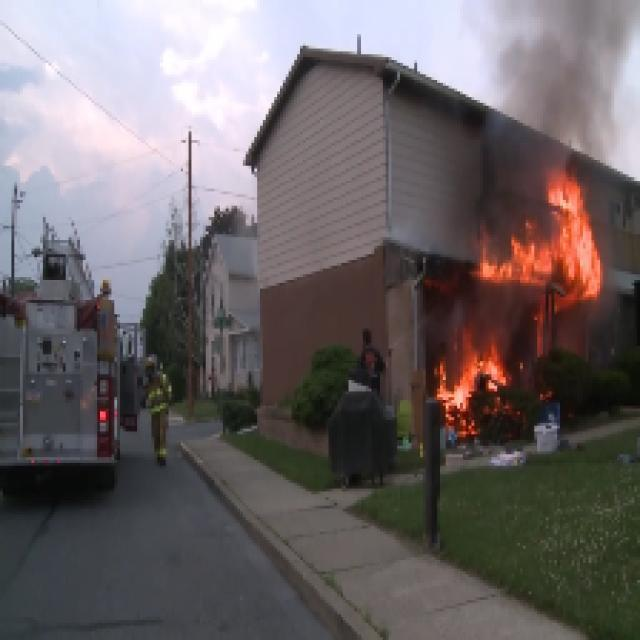Fire: (377, 160, 634, 489)
Smoke: (457, 0, 640, 197)
